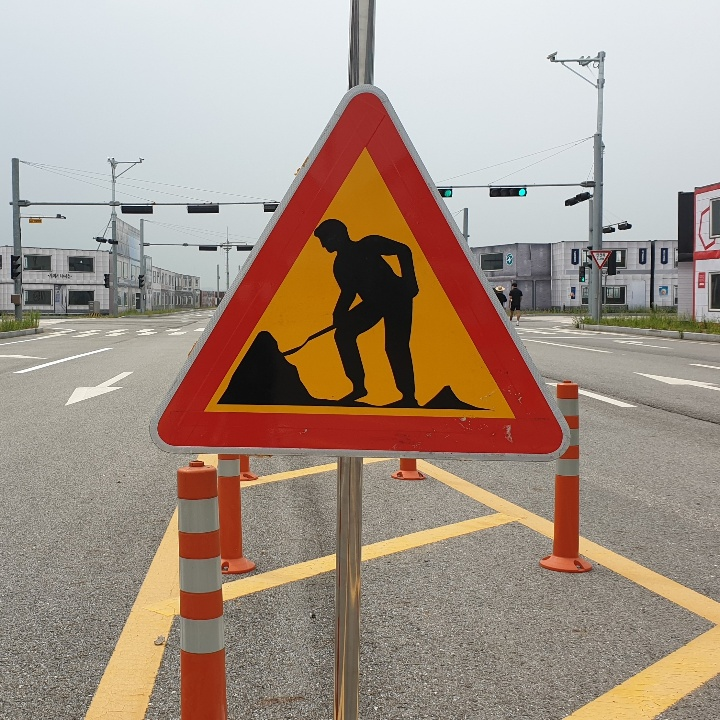const: (215, 198, 501, 411)
